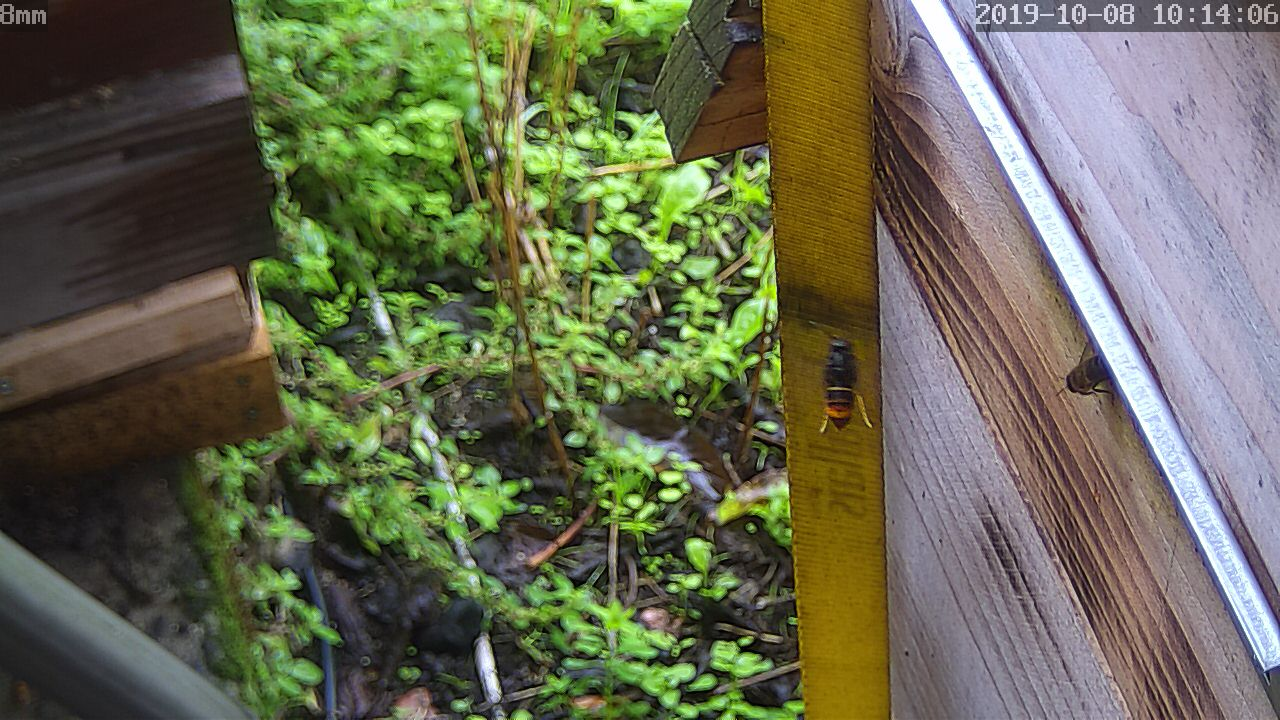bee: (1060, 340, 1118, 408)
hornet: (805, 331, 872, 434)
